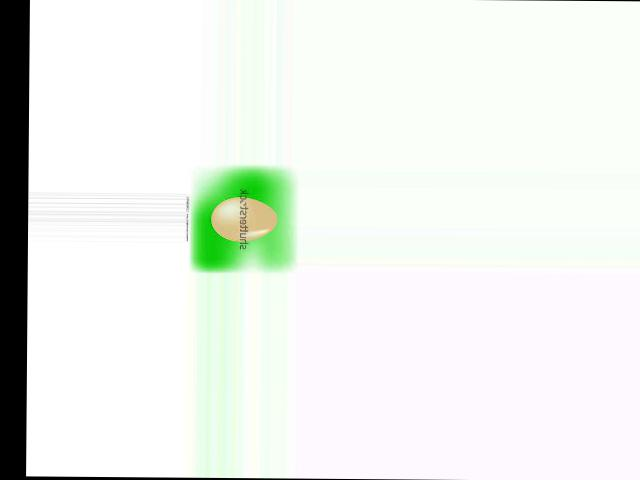egg: (211, 196, 277, 241)
